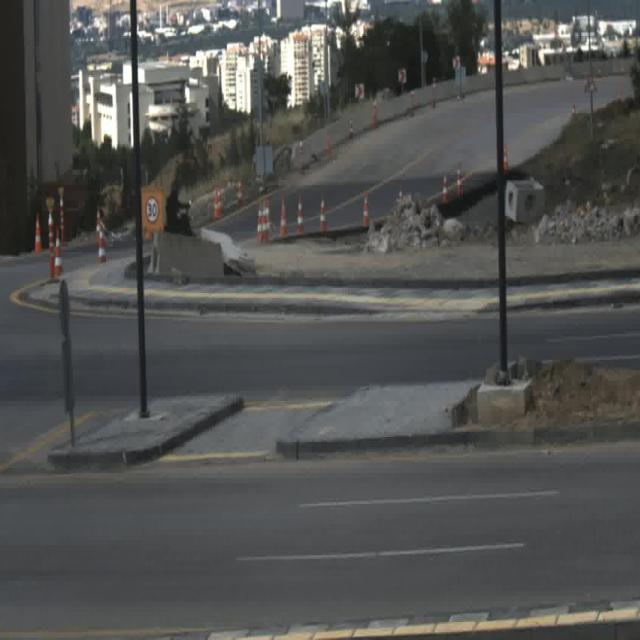Motorcycle: (165, 180, 191, 234)
